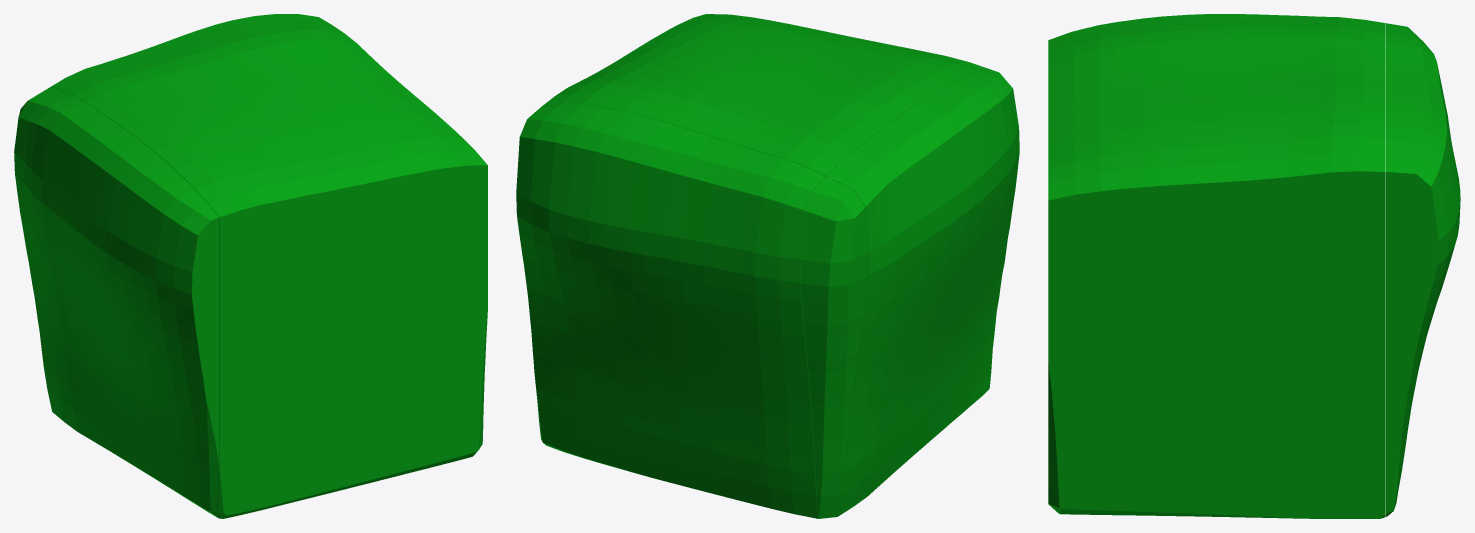
File: 4by10beveledsubdivided.004.fbx
3 renders of one model, left to right at view 1: azimuth 30°, elevation 25°; view 2: azimuth 150°, elevation 25°; view 3: azimuth 270°, elevation 25°, orthographic. The views are drawn at different scales.
Parts seen in each view (by area): view 1: 4by10beveledsubdivided.004; view 2: 4by10beveledsubdivided.004; view 3: 4by10beveledsubdivided.004.
Part boxes in pixels (left/top/right/bottom): 4by10beveledsubdivided.004: left=14, top=14, right=487, bottom=518; 4by10beveledsubdivided.004: left=516, top=14, right=1019, bottom=518; 4by10beveledsubdivided.004: left=1048, top=14, right=1460, bottom=518.
Size of the model in its own units: 237 by 240 by 244.
